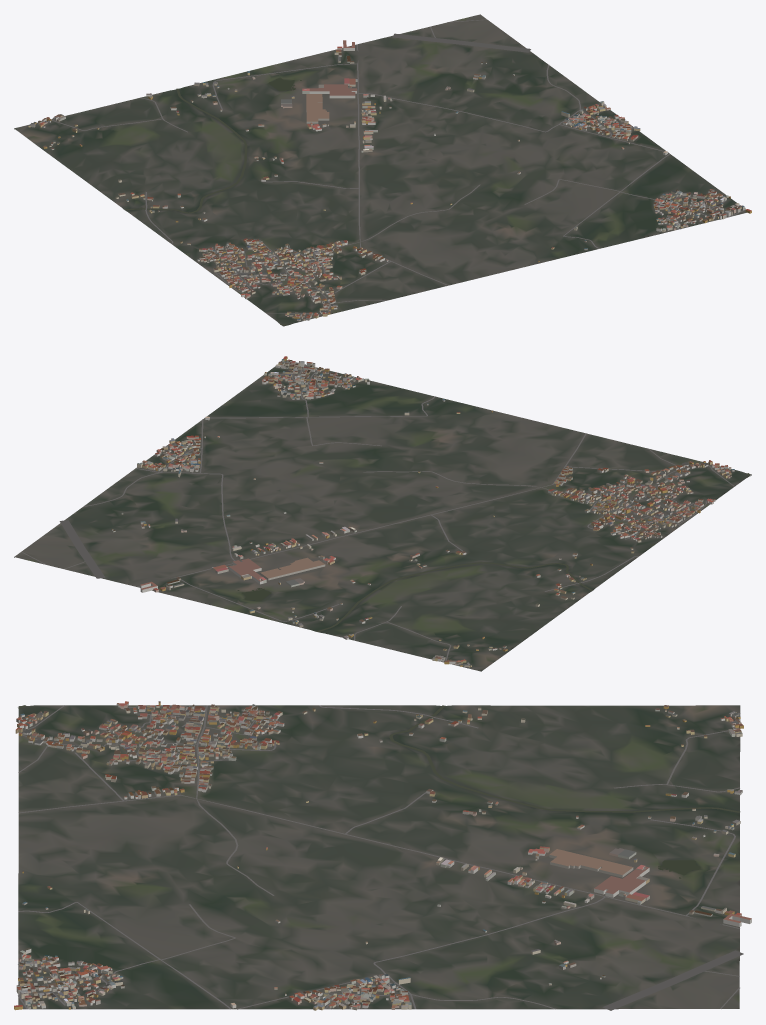
The picture shows the model from 3 angles, top to bottom: view 1: azimuth 30°, elevation 25°; view 2: azimuth 150°, elevation 25°; view 3: azimuth 270°, elevation 25°; orthographic projection. The views are drawn at different scales.
Parts seen in each view (by area): view 1: ground, buildings, roads, water; view 2: ground, buildings, roads, water; view 3: ground, buildings, roads, water.
Part boxes in pixels (x1,y1,x2,y2): ground: (14,14,746,326); buildings: (28,40,751,321); roads: (26,19,745,316); water: (124,78,301,325); ground: (14,360,751,671); buildings: (112,356,734,667); roads: (21,362,734,668); water: (237,473,750,631); ground: (18,705,740,1009); buildings: (14,701,751,1010); roads: (18,705,743,1010); water: (18,705,740,878).
Size of the model in its own units: 1414 by 15.81 by 1434.
